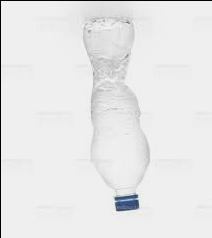Plastic: (77, 13, 155, 217)
